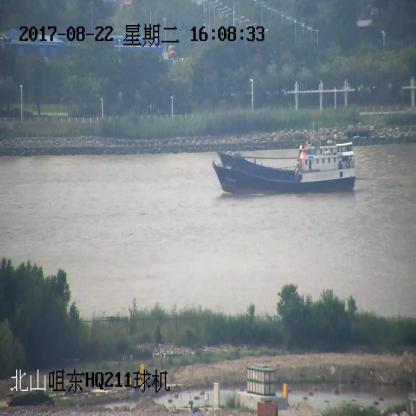Fishing Boat: (219, 111, 355, 179), (214, 150, 354, 194)
